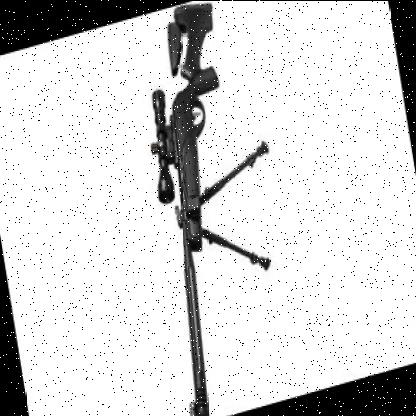rifle: (118, 0, 274, 416)
